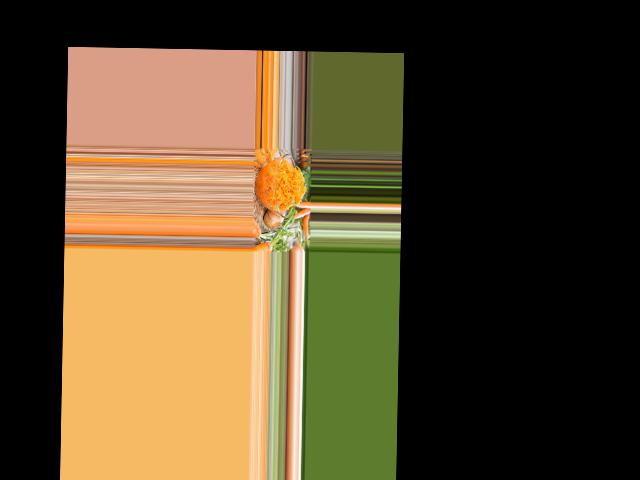carrot: (295, 201, 309, 208)
